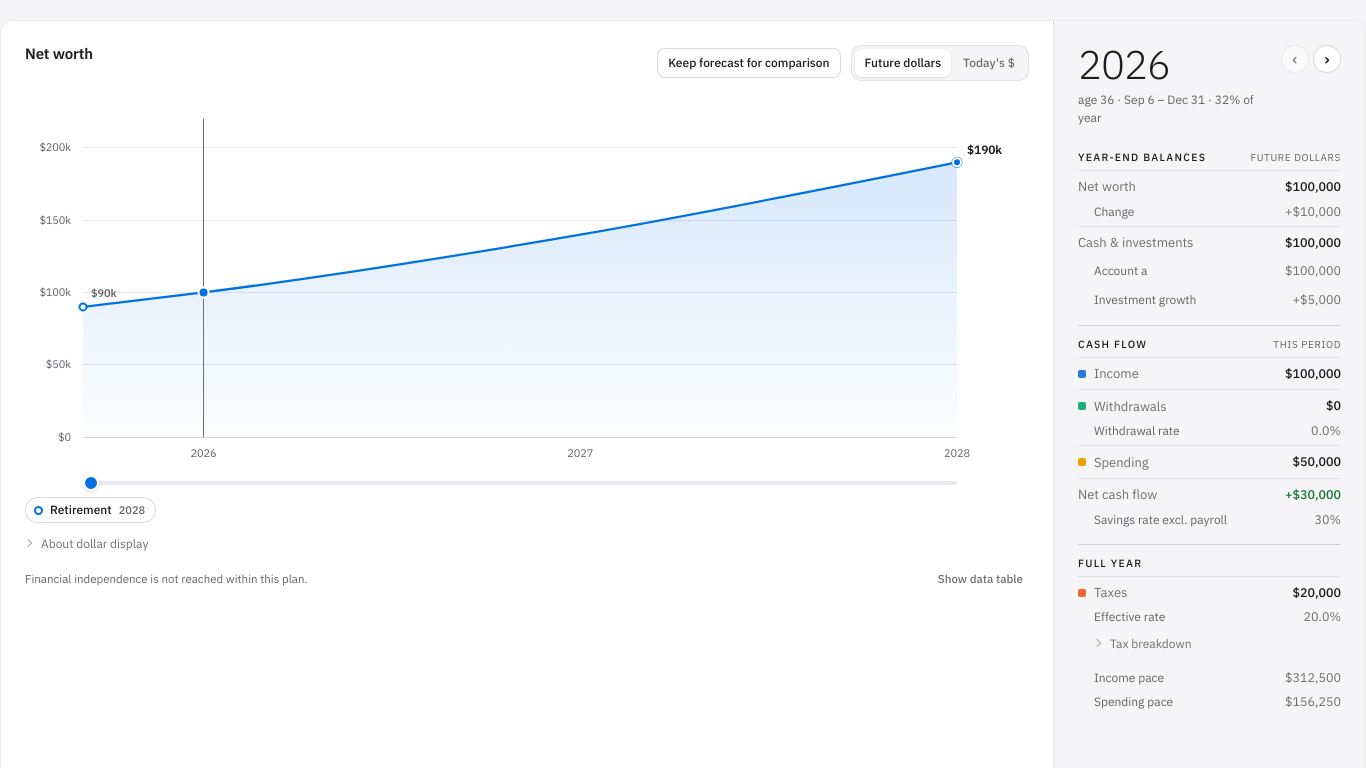
Scenario: DashboardView › steps the year with the ledger arrows
Expected: the button named "Previous year" is disabled, [1281, 45, 1309, 73]
Click the button named "Next year": (1327, 59) [1313, 45, 1341, 73]
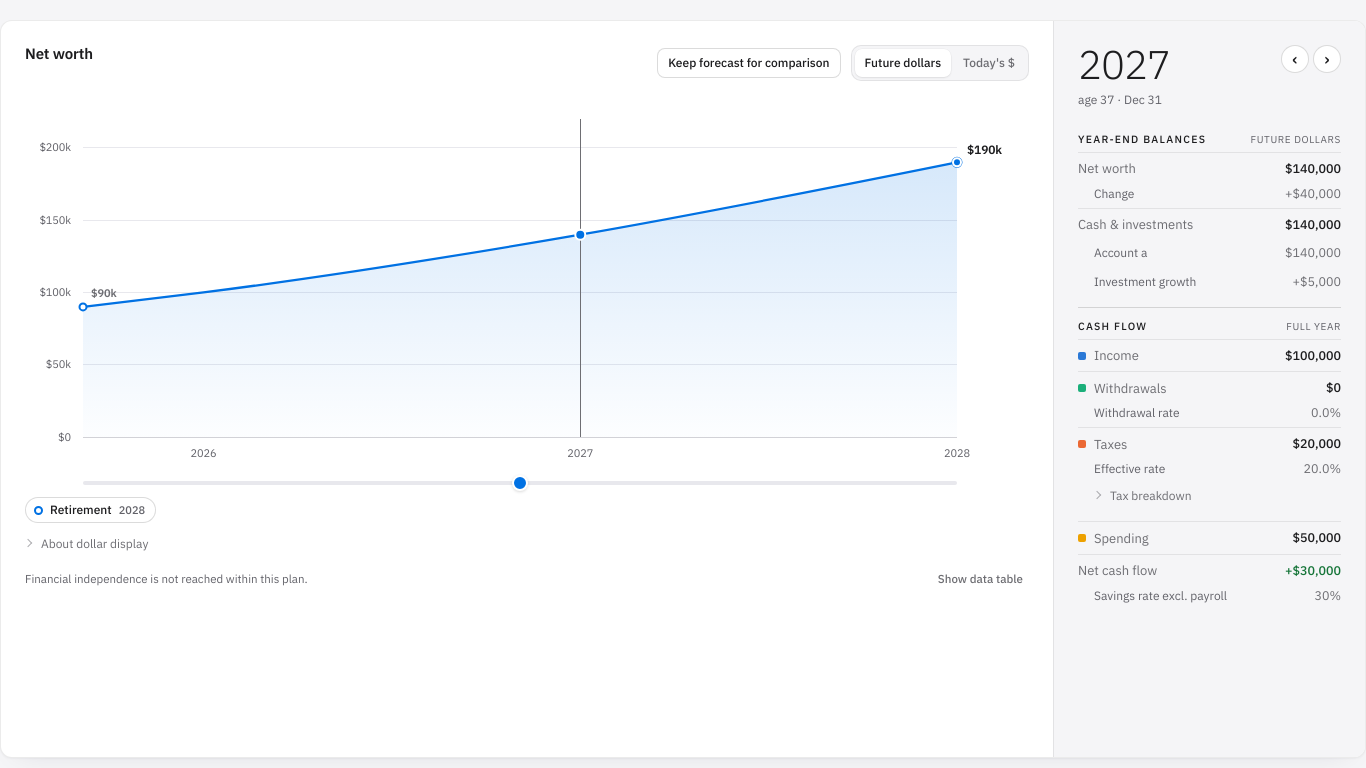
Expected: the element named "Year 2027 details" is shown, [1053, 21, 1365, 757]
